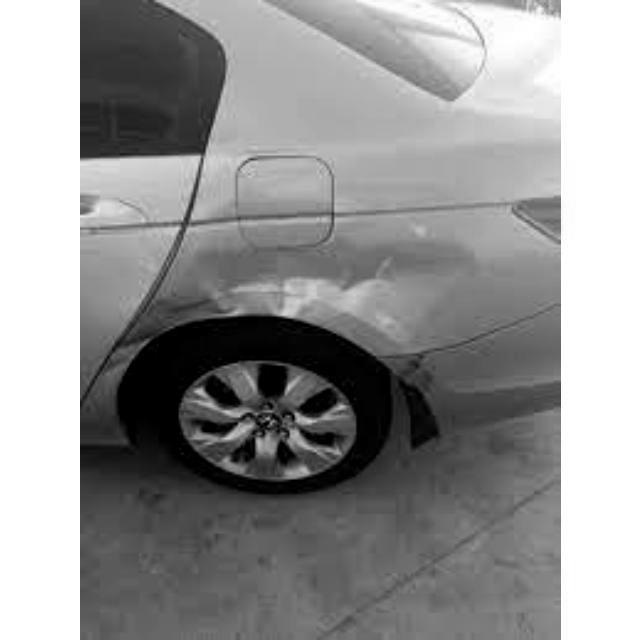quaterpanel-dent: (194, 154, 559, 359)
